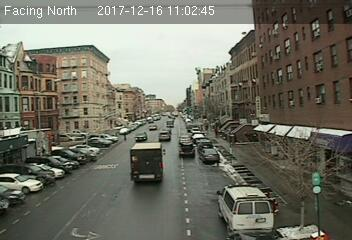car: (199, 148, 221, 165), (177, 142, 195, 158), (133, 132, 146, 141), (159, 131, 169, 140)
police: (216, 181, 276, 232)
ups: (130, 141, 166, 183)
